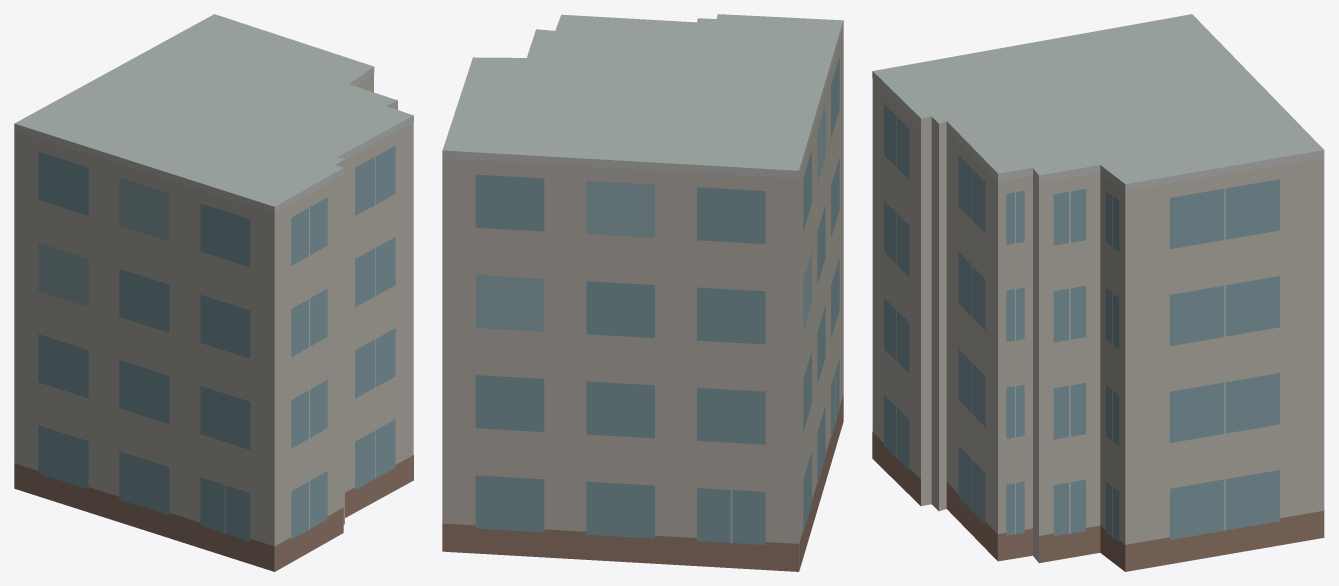
File: survey-upis-32961589.glb
The picture shows the model from 3 angles, left to right: view 1: azimuth 30°, elevation 25°; view 2: azimuth 150°, elevation 25°; view 3: azimuth 270°, elevation 25°; orthographic projection. The views are drawn at different scales.
Parts seen in each view (by area): view 1: survey-upis-32961589.tmp; view 2: survey-upis-32961589.tmp; view 3: survey-upis-32961589.tmp.
Part boxes in pixels (x1,y1,x2,y2): survey-upis-32961589.tmp: [14, 14, 413, 571]; survey-upis-32961589.tmp: [442, 14, 843, 571]; survey-upis-32961589.tmp: [872, 14, 1324, 571].
Bounding box in the file's own units: 11.93 × 12.66 × 13.38.
